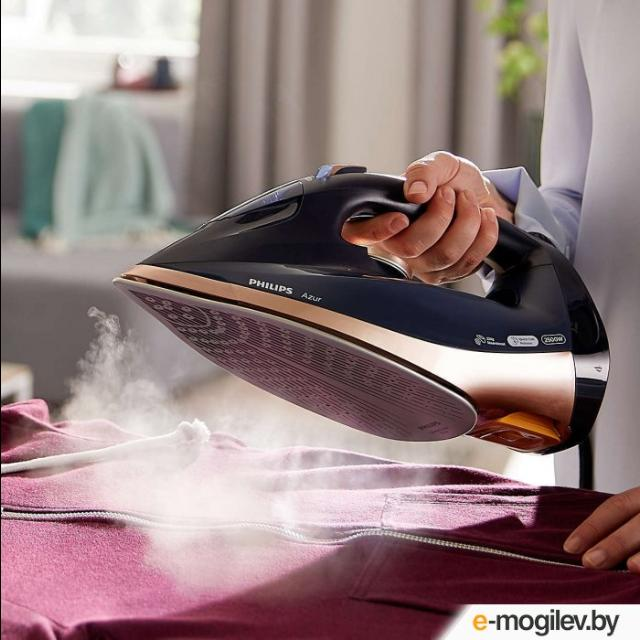Clothes-Iron: (104, 162, 616, 456)
